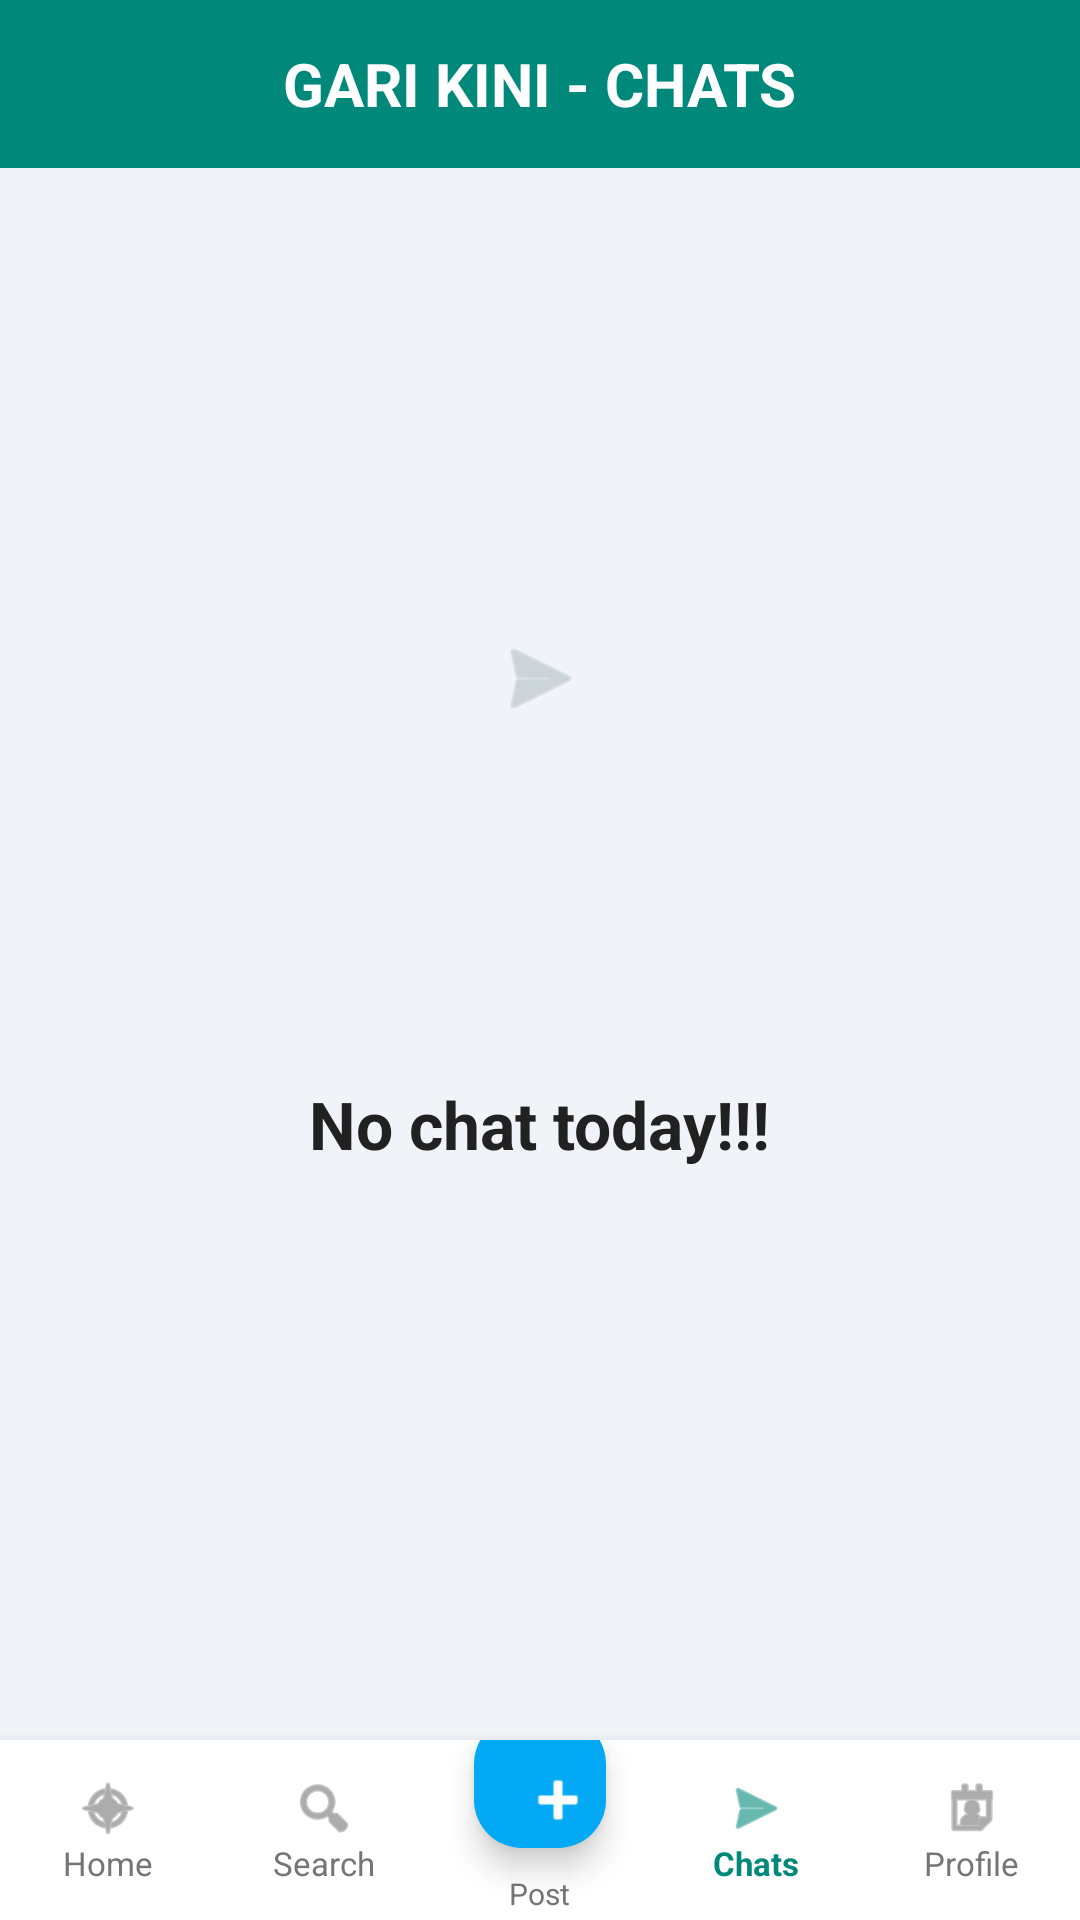

Where icons sit on this 1080*1920 app screen, as (x1, y1, x2, y2):
calendar: (951, 1783, 993, 1831)
compass: (82, 1782, 134, 1834)
send: (511, 649, 571, 708), (735, 1787, 778, 1829)
